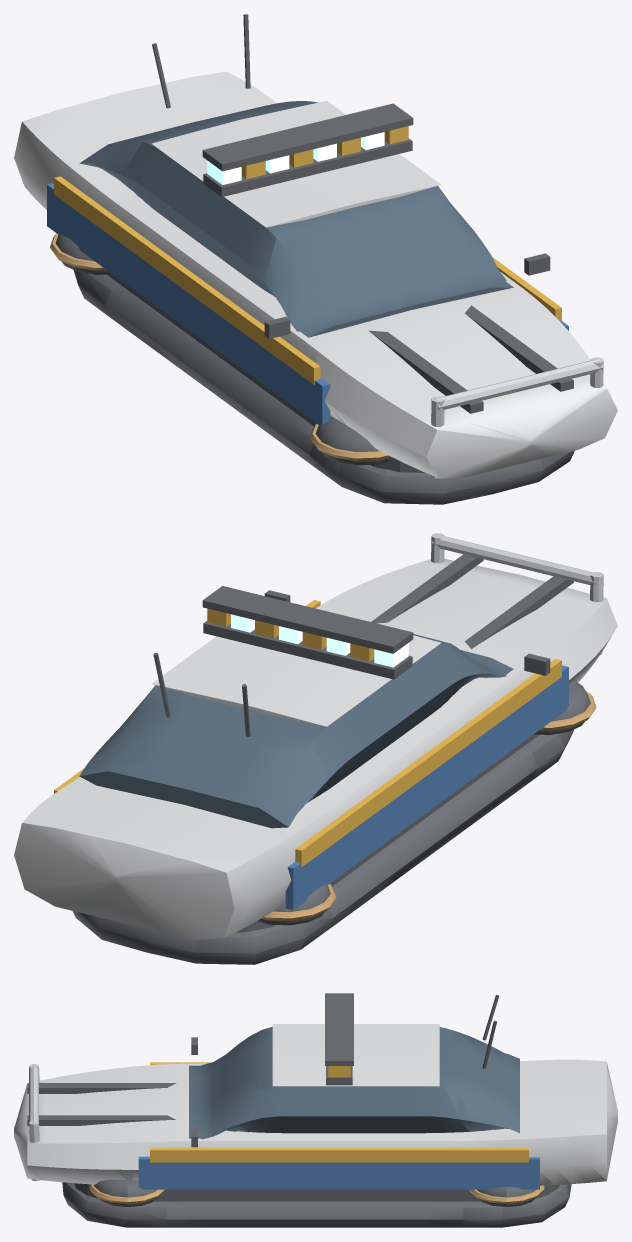
Rendered from hover-transit-and-antigrav-fleet-patrol-interceptor-93469fb6__17086.glb.
3 renders of one model, top to bottom at view 1: azimuth 30°, elevation 25°; view 2: azimuth 150°, elevation 25°; view 3: azimuth 270°, elevation 25°, orthographic. The views are drawn at different scales.
Visible parts, largest first — view 1: patrol-interceptor; view 2: patrol-interceptor; view 3: patrol-interceptor.
Part boxes in pixels (box(x1,y1,x2,y2)): patrol-interceptor: box(14, 14, 617, 504); patrol-interceptor: box(14, 533, 617, 964); patrol-interceptor: box(14, 993, 617, 1227).
Bounding box in the file's own units: 2.12 × 1.86 × 5.42.
